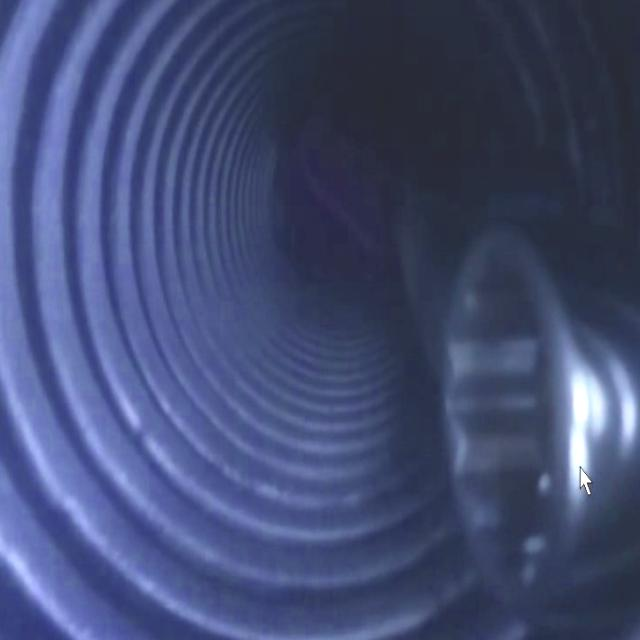metal piece: (444, 223, 640, 593)
